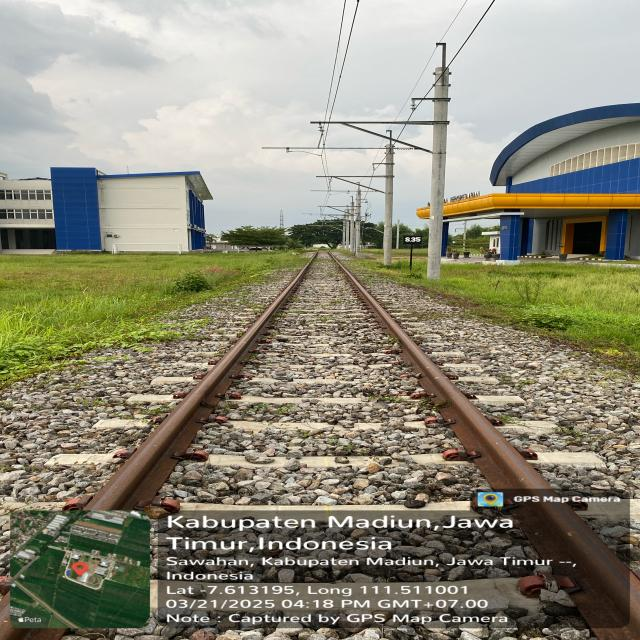rail-detection: (327, 251, 640, 640), (86, 251, 317, 510)
